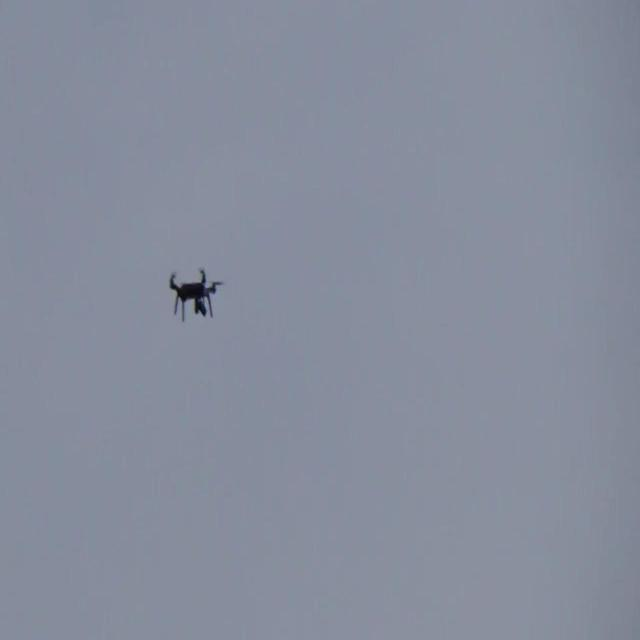drone: (167, 268, 221, 323)
